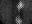person: (18, 1, 24, 11), (15, 16, 21, 23)
